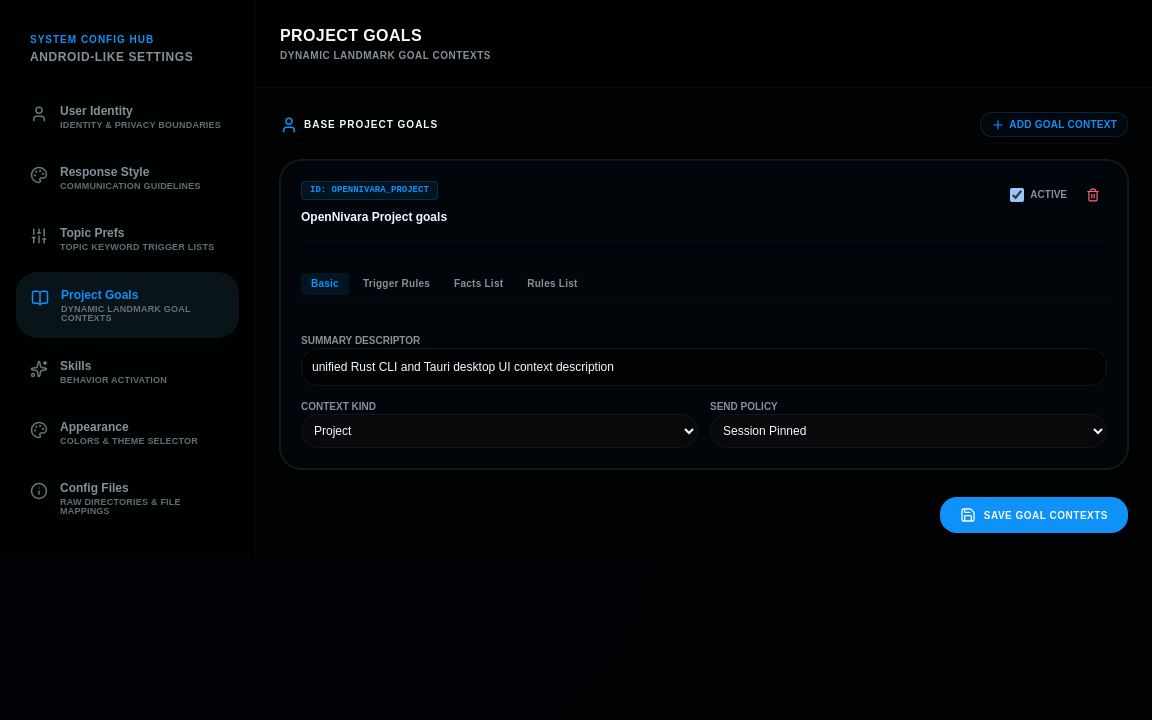
Test case: ContextsEditor Tests › Verify all Goal Context rendering & sub-accordions navigate
The width and height of the screenshot is (1152, 720).
Check: the heading "Base Project Goals" is shown, box [280,116,438,134]
Check: the text "Summary descriptor" is shown, box [301,335,420,346]
Click the button "Trigger Rules" at (396,284), box [353,273,440,295]
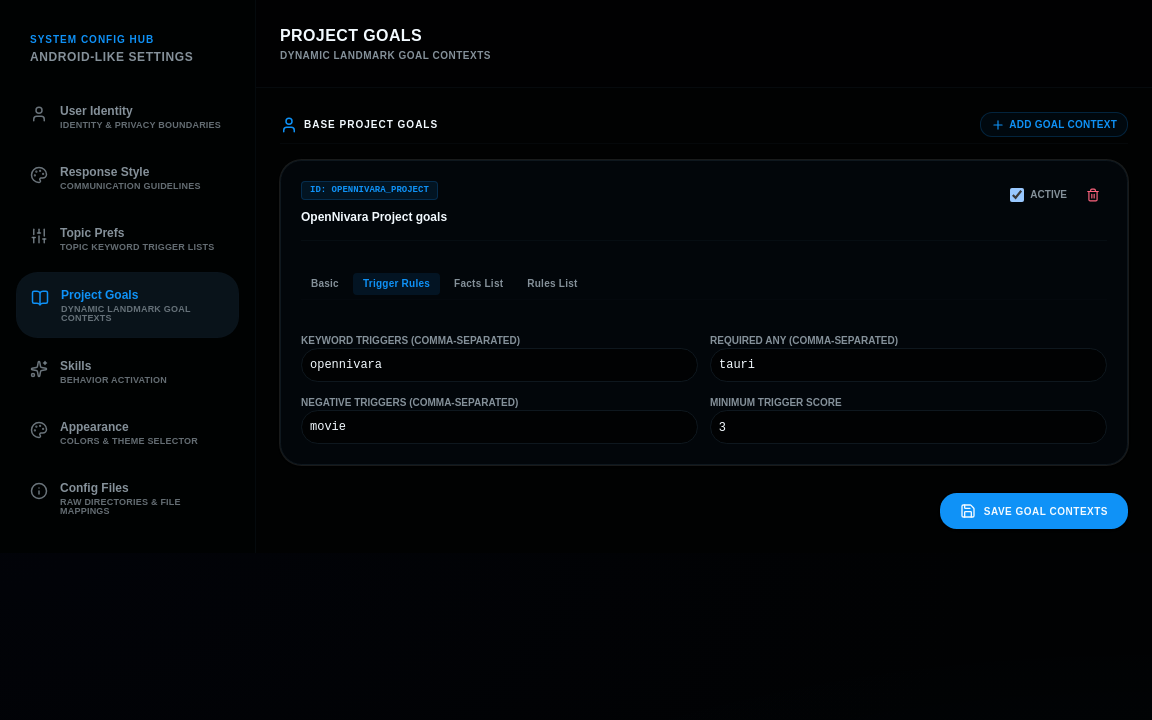
Check: the field showing "tauri" below "Required Any (comma-separated)" is shown, box [710,348,1107,382]
Check: the text "Keyword Triggers (comma-separated)" is shown, box [301,335,520,346]
Check: the field showing "opennivara" below "Keyword Triggers (comma-separated)" is shown, box [301,348,698,382]
Note: Click Facts List
Click the button "Facts List" at (479,284), box [444,273,513,295]
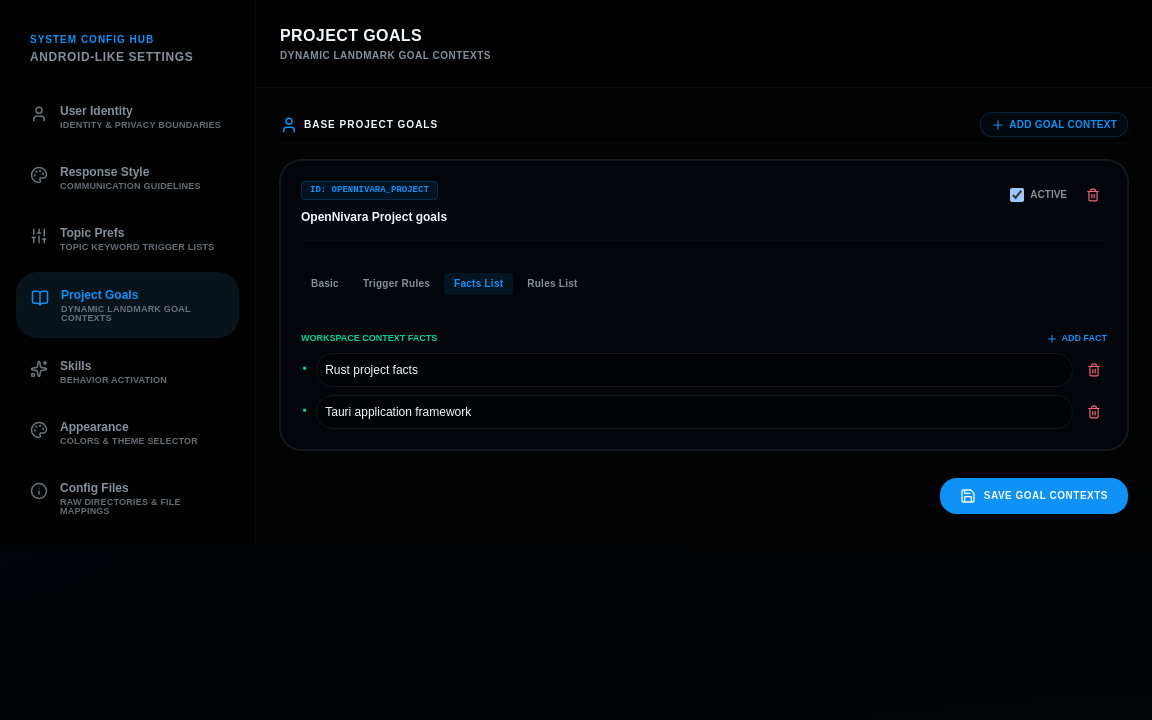
Check: the text "Workspace Context Facts" is shown, box [301,332,437,345]
Check: the 2nd field showing "Rust project facts" is shown, box [316,353,1073,387]
Note: Click Rules List
Click the button "Rules List" at (552,284), box [517,273,588,295]
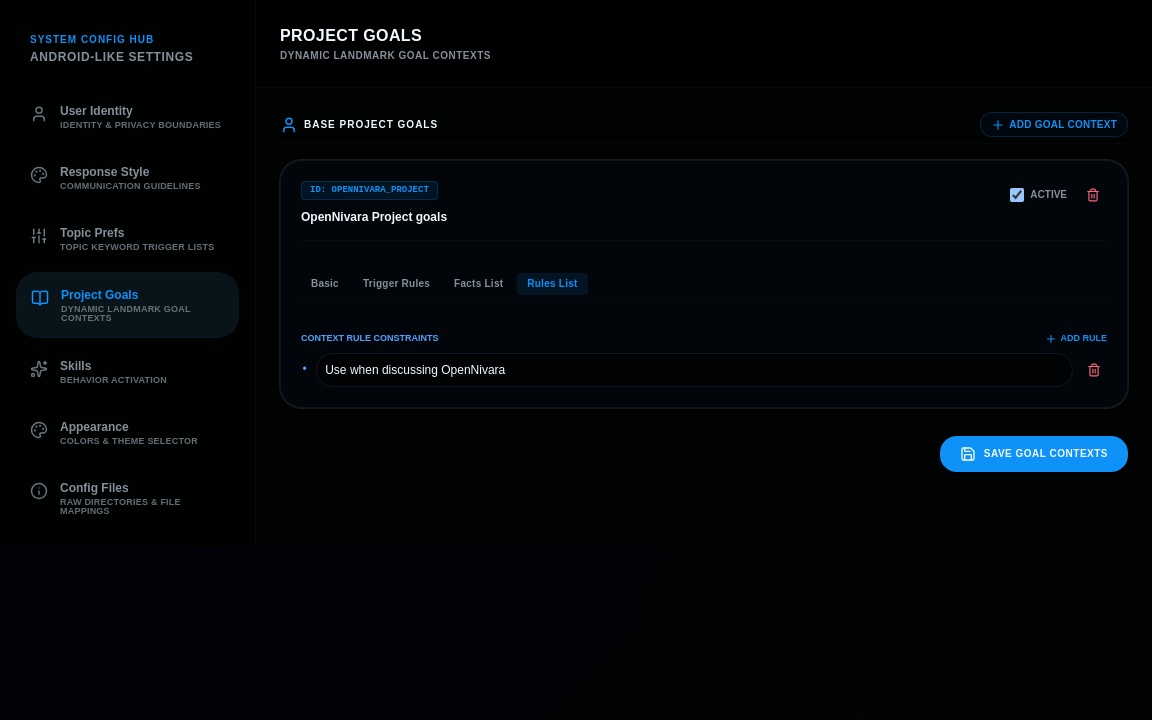
Check: the text "Context Rule Constraints" is shown, box [301,332,438,345]
Check: the field showing "Use when discussing OpenNivara" below "Context Rule Constraints" is shown, box [316,353,1073,387]
